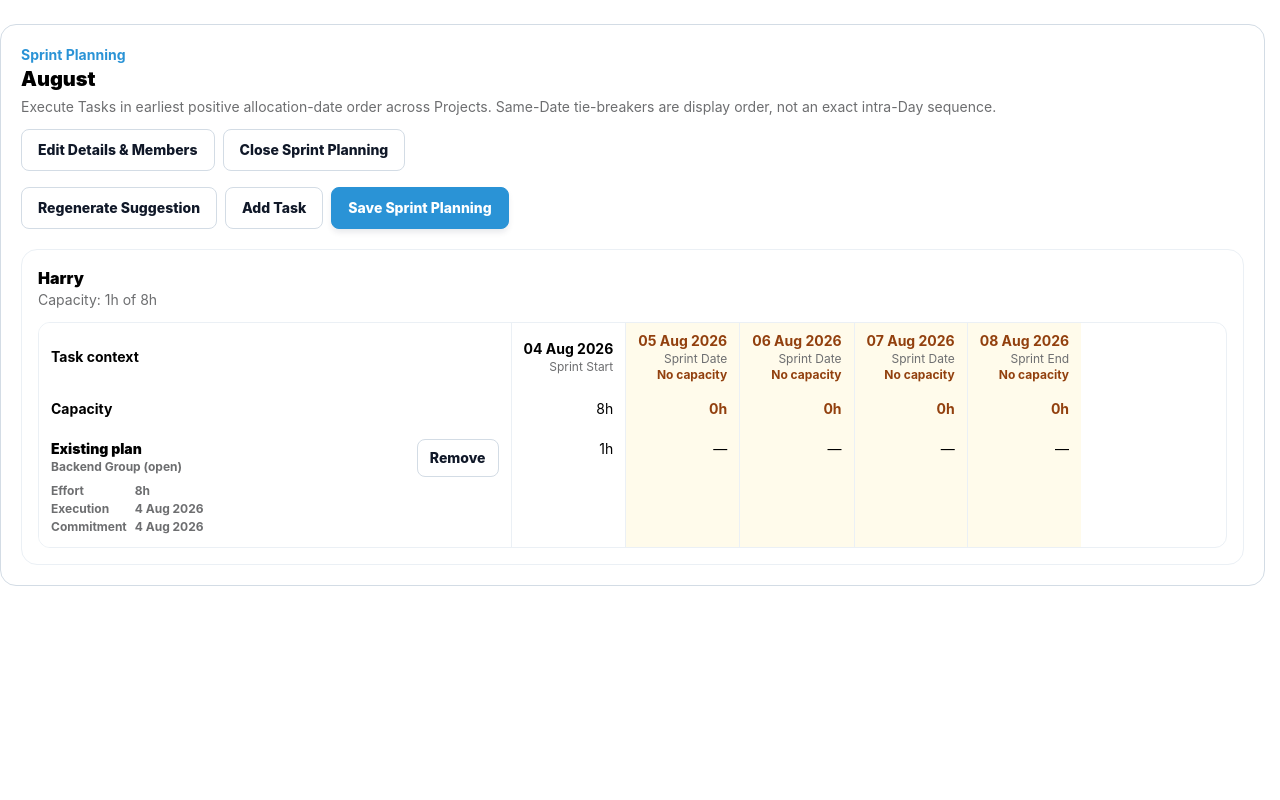
Test: SprintTaskReview › preserves reviewed membership when suggestion generation fails_SPD07_AC77
The image size is (1280, 800).
Expected: the element "Harry" shows "Capacity: 1h of 8h", x1=21 y1=249 x2=1244 y2=565
Click the button "Regenerate Suggestion". click: x=119, y=208
box: x1=21 y1=187 x2=217 y2=229
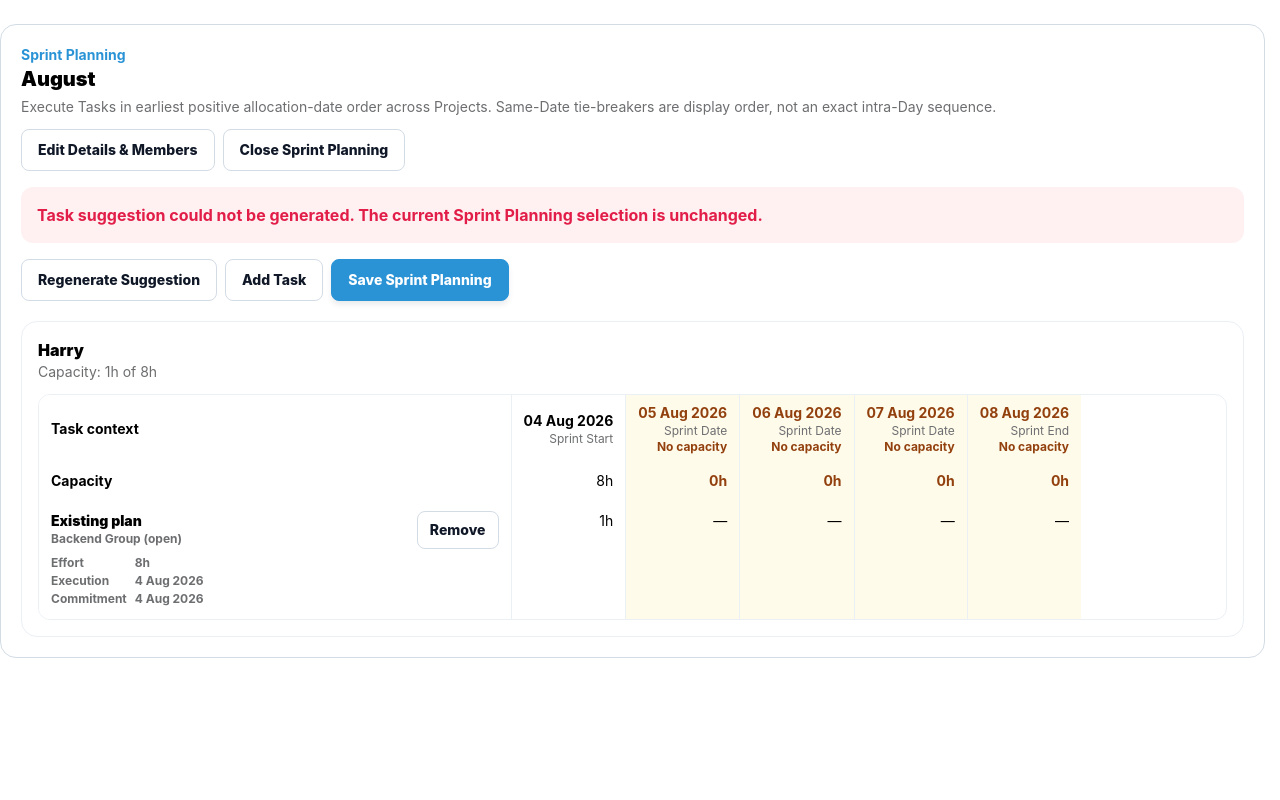
Expected: the button with aria-label "Remove Existing plan from Sprint" is shown, x1=417 y1=511 x2=498 y2=549
Expected: the text "Task suggestion could not be generated. The current Sprint Planning selection is unchanged." is shown, x1=37 y1=205 x2=763 y2=225
